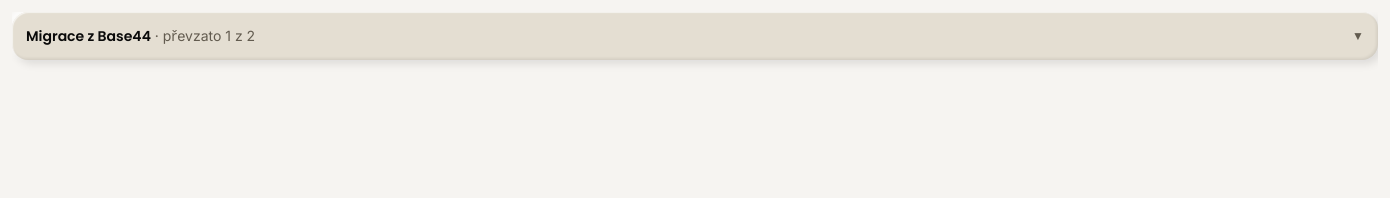
Scenario: Base44Overview › shows how many moved, and who
expect the text "· převzato 1 z 2" is shown: met, box [151,27,255,44]
Click the button "Migrace z Base44 · převzato 1 z 2 ▼".
click(88, 36)  # box [12,12,1378,60]
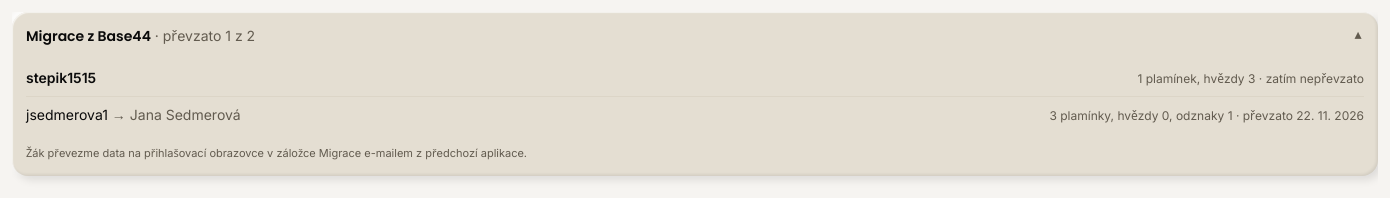
expect the text "zatím nepřevzato" is shown: met, box [1266,71,1364,86]
expect the text "→ Jana Sedmerová" is shown: met, box [108,106,241,123]
expect the text "3 plamínky, hvězdy 0, odznaky 1 · převzato 22. 11. 2026" is shown: met, box [1050,108,1364,124]
